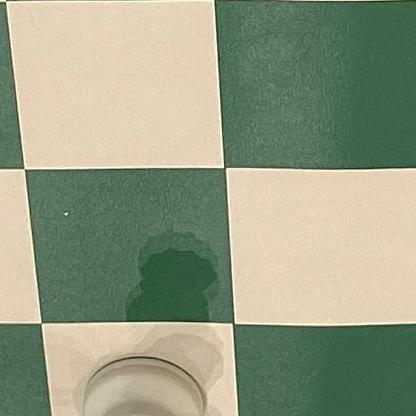white-queen: (76, 353, 209, 416)
